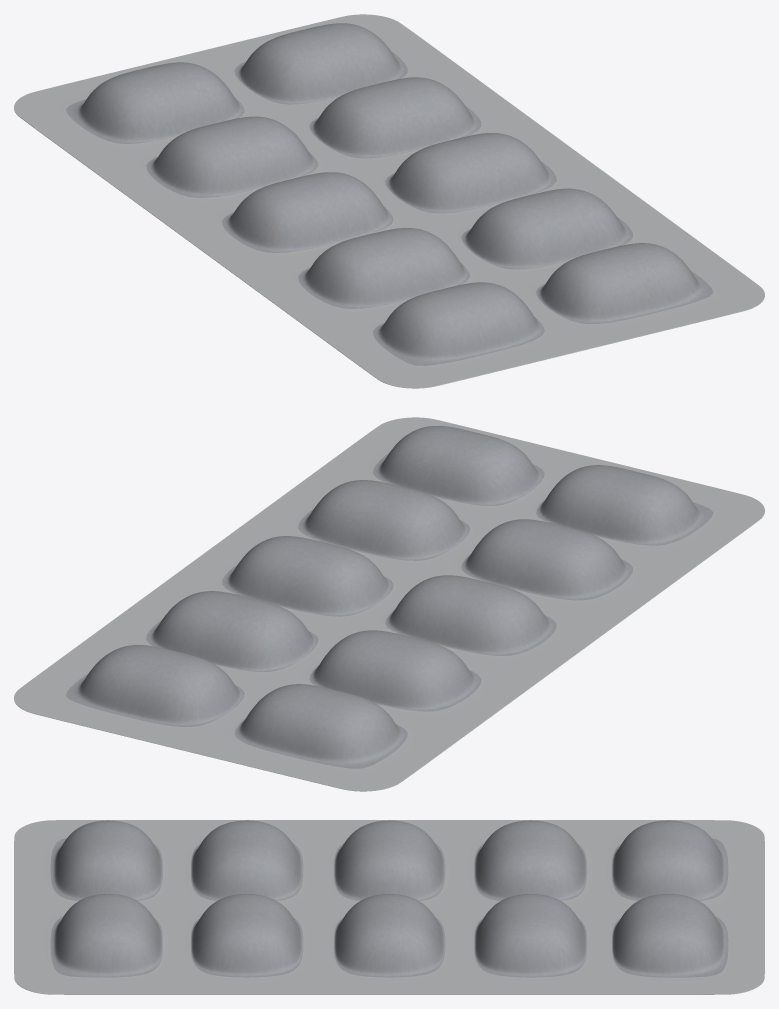
The model's file is plate.obj.
The picture shows the model from 3 angles, top to bottom: view 1: azimuth 30°, elevation 25°; view 2: azimuth 150°, elevation 25°; view 3: azimuth 270°, elevation 25°; orthographic projection. The views are drawn at different scales.
Parts seen in each view (by area): view 1: polySurface1_plate_____001; view 2: polySurface1_plate_____001; view 3: polySurface1_plate_____001.
Part boxes in pixels (bbox=[...]): polySurface1_plate_____001: bbox=[14, 14, 764, 388]; polySurface1_plate_____001: bbox=[14, 417, 764, 791]; polySurface1_plate_____001: bbox=[14, 820, 764, 994].
Size of the model in its own units: 23.8 by 2.24 by 43.36.
